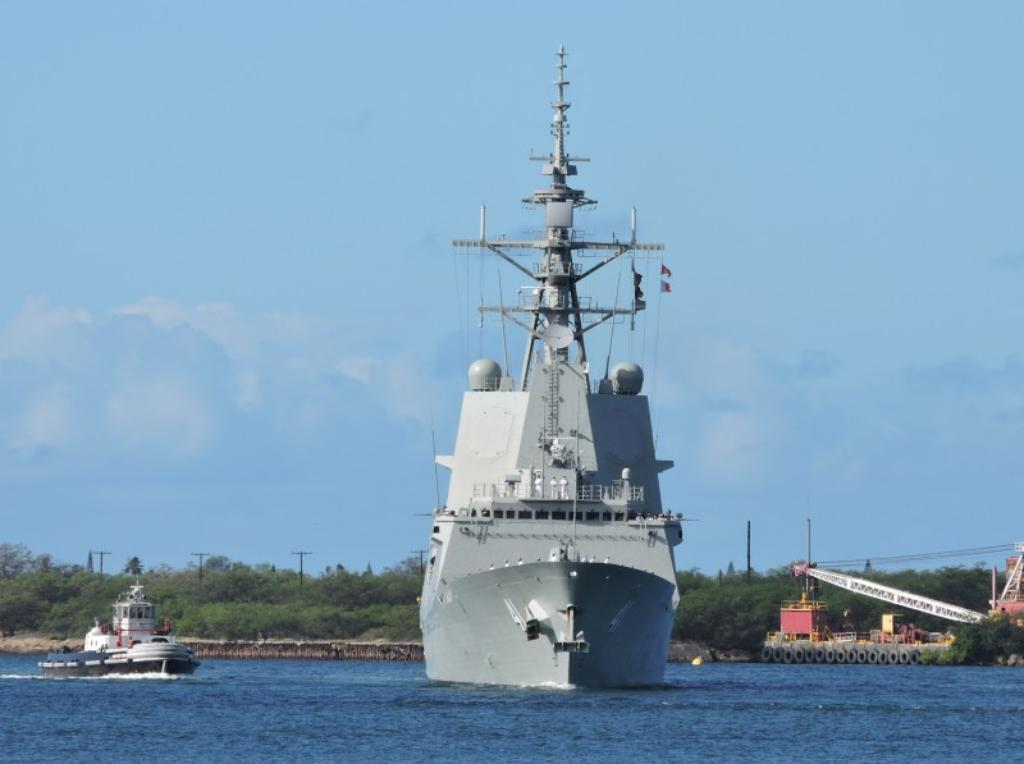Warship: (414, 45, 682, 694)
